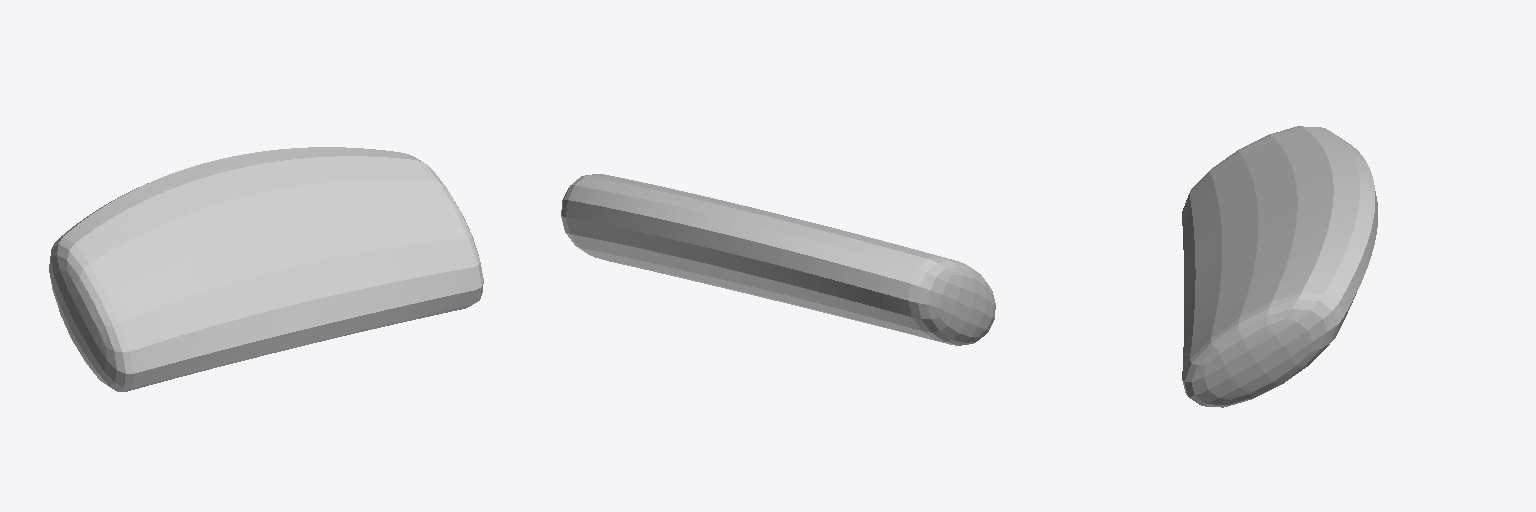
Rendered from ControlPanel.obj.
The picture shows the model from 3 angles: view 1: azimuth 30°, elevation 25°; view 2: azimuth 150°, elevation 25°; view 3: azimuth 270°, elevation 25°; orthographic projection.
Parts seen in each view (by area): view 1: 10472_LED_Control_Panel_v1_max2010_iteration-2; view 2: 10472_LED_Control_Panel_v1_max2010_iteration-2; view 3: 10472_LED_Control_Panel_v1_max2010_iteration-2.
Boxes of the visible parts, x1,y1,x2,y2 form: 10472_LED_Control_Panel_v1_max2010_iteration-2: [49, 147, 483, 391]; 10472_LED_Control_Panel_v1_max2010_iteration-2: [561, 174, 995, 345]; 10472_LED_Control_Panel_v1_max2010_iteration-2: [1182, 126, 1377, 407].
Size of the model in its own units: 75.28 by 24.95 by 33.42.